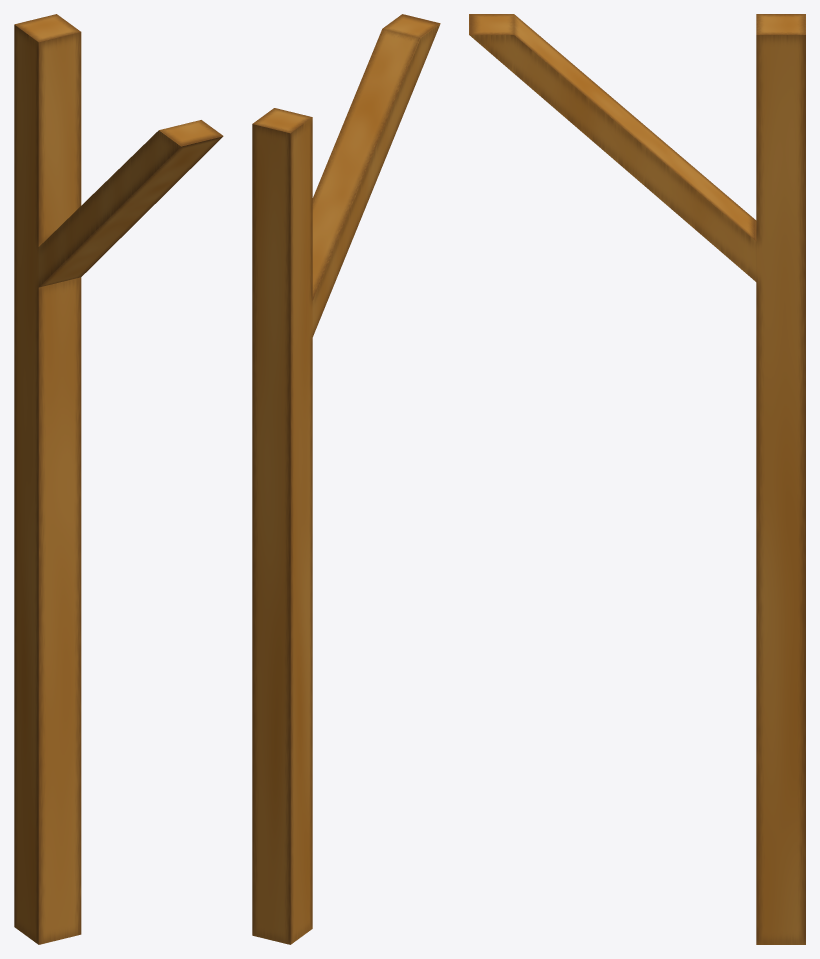
The model's file is post.fbx.
3 views of the same model, side by side, from view 1: azimuth 30°, elevation 25°; view 2: azimuth 150°, elevation 25°; view 3: azimuth 270°, elevation 25° (orthographic). The views are drawn at different scales.
Visible parts, largest first — view 1: post; view 2: post; view 3: post.
Boxes of the visible parts, left/top/right/bottom form: post: left=14, top=14, right=223, bottom=944; post: left=252, top=14, right=440, bottom=944; post: left=469, top=14, right=805, bottom=944.
Size of the model in its own units: 0.2569 by 5.2 by 1.74.
